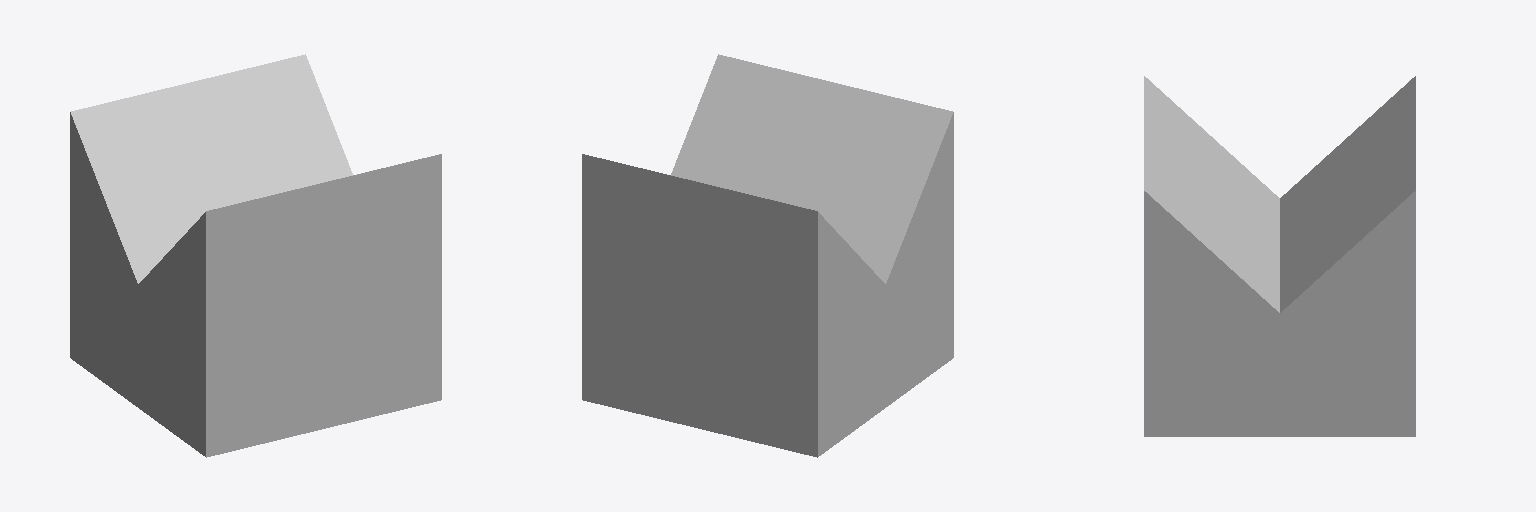
File: invertedridge.obj
The picture shows the model from 3 angles: view 1: azimuth 30°, elevation 25°; view 2: azimuth 150°, elevation 25°; view 3: azimuth 270°, elevation 25°; orthographic projection.
Visible parts, largest first — view 1: Cube; view 2: Cube; view 3: Cube.
Boxes of the visible parts, box(x1,y1,x2,y2) form: Cube: box(70, 54, 441, 457); Cube: box(582, 54, 953, 457); Cube: box(1144, 76, 1415, 436).
Size of the model in its own units: 1 by 1 by 1.